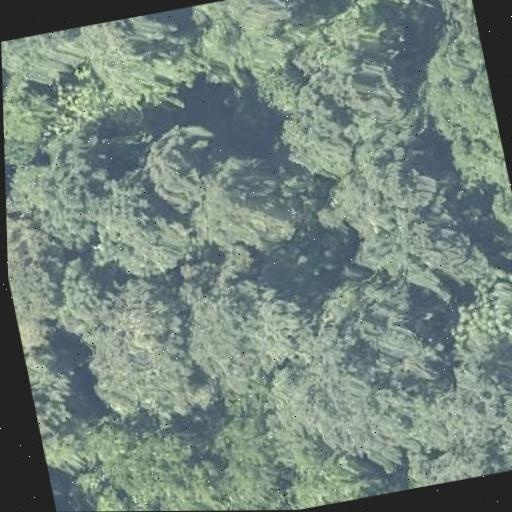tree-top: (405, 0, 512, 284), (277, 272, 449, 432), (76, 261, 212, 435), (317, 151, 471, 298), (260, 50, 422, 189), (165, 254, 310, 400), (78, 411, 287, 512), (176, 137, 319, 263), (389, 347, 512, 487), (3, 117, 117, 239), (80, 171, 194, 283), (85, 8, 200, 113), (185, 0, 305, 88), (6, 205, 78, 348), (428, 255, 512, 369), (277, 435, 394, 510), (23, 340, 94, 439), (334, 0, 472, 24)
